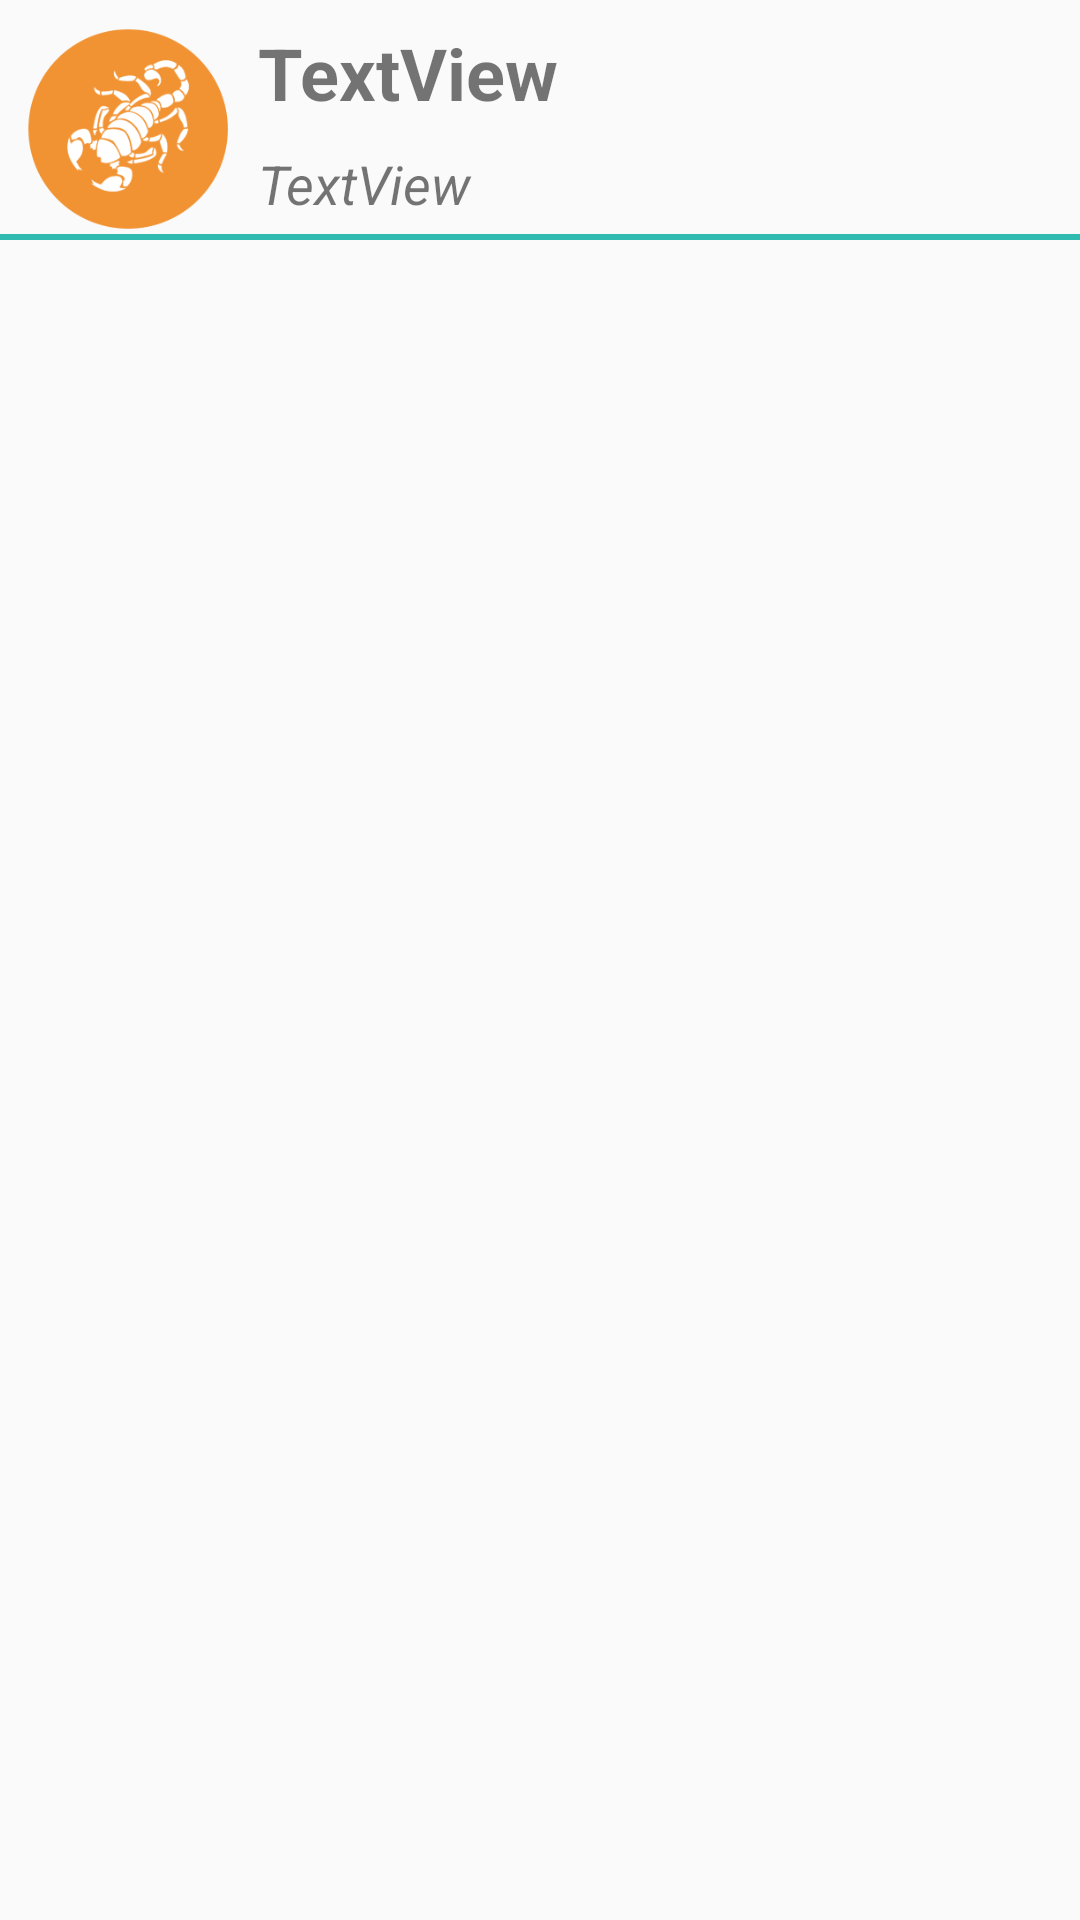

Icon click points for this 1080px x 1920px phone screenshot, format point (x, y):
akrep: point (128, 129)
